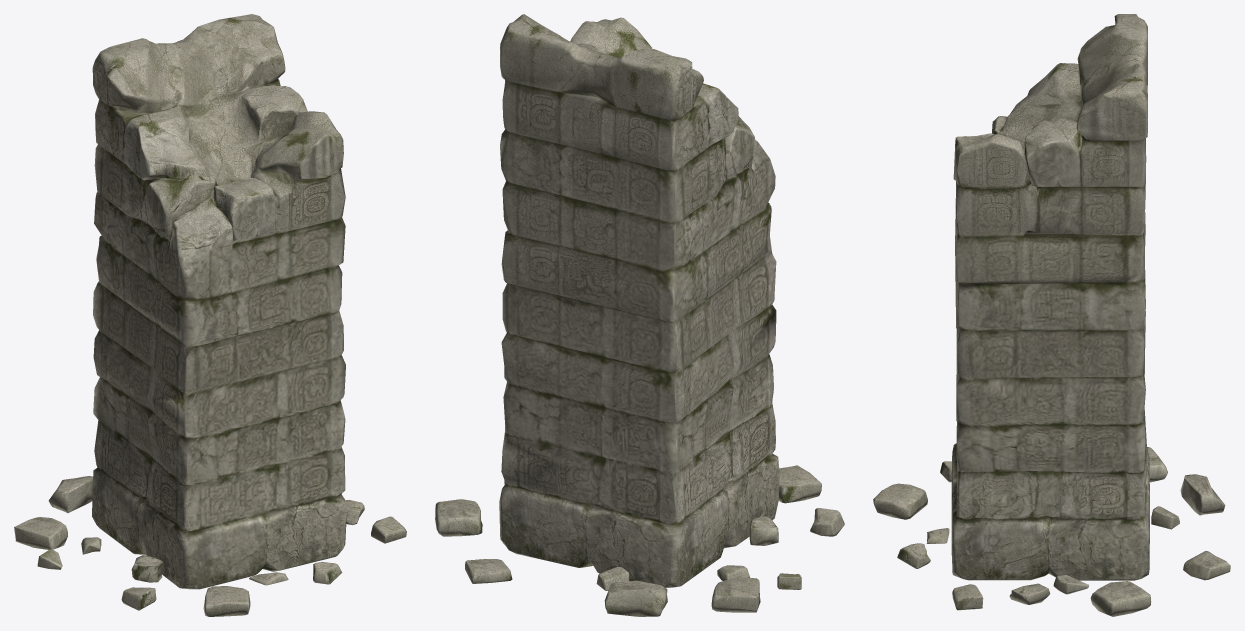
Rendered from ruin_pillar_broken.glb.
3 renders of one model, left to right at view 1: azimuth 30°, elevation 25°; view 2: azimuth 150°, elevation 25°; view 3: azimuth 270°, elevation 25°, orthographic. The views are drawn at different scales.
Size of the model in its own units: 0.6704 by 0.9521 by 0.6313.
1 material, 1 textured.
